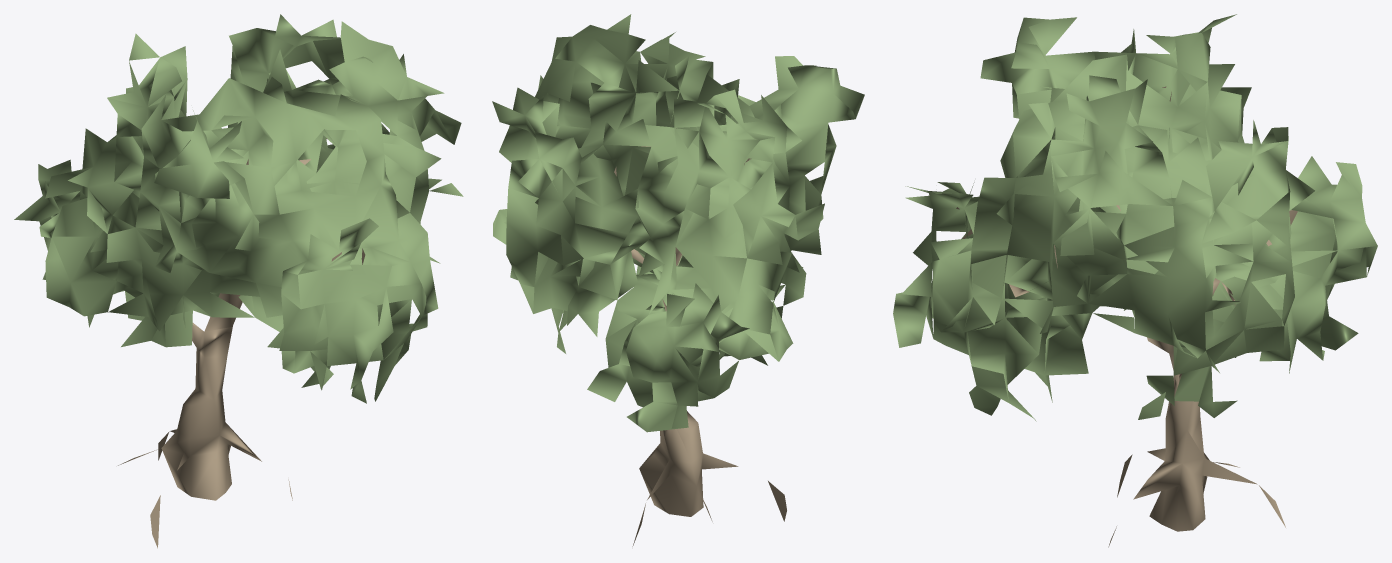
Rendered from willow-far.glb.
3 renders of one model, left to right at view 1: azimuth 30°, elevation 25°; view 2: azimuth 150°, elevation 25°; view 3: azimuth 270°, elevation 25°, orthographic. The views are drawn at different scales.
Size of the model in its own units: 11.07 by 15.05 by 12.93.
